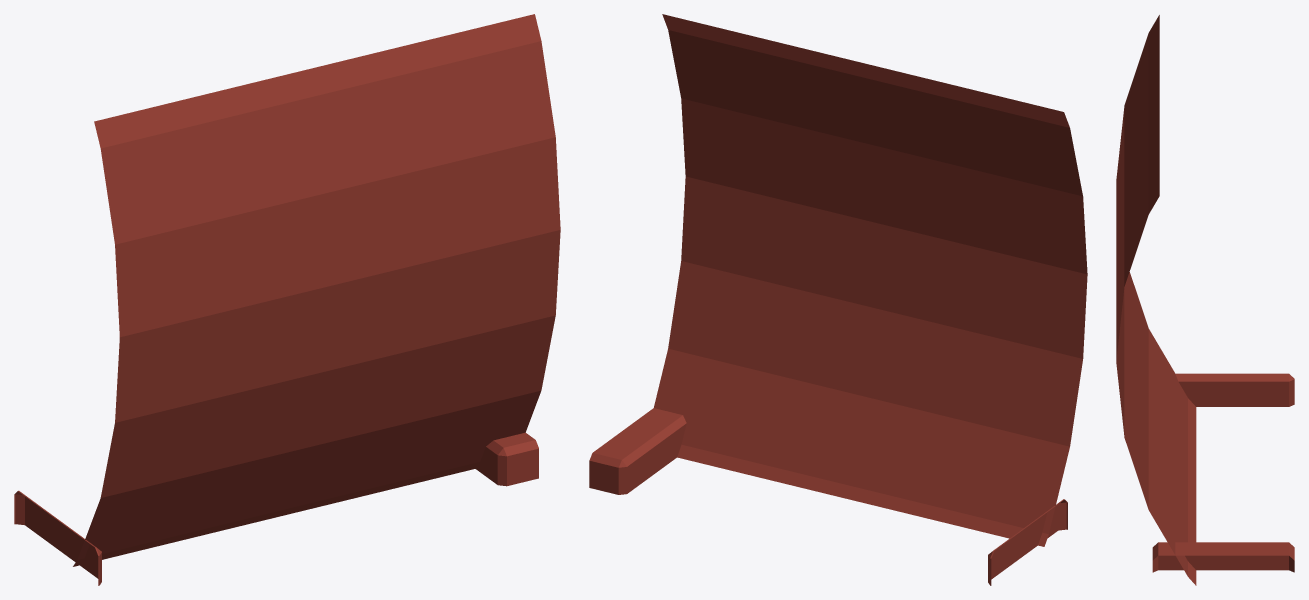
File: cell_47.obj
3 views of the same model, side by side, from view 1: azimuth 30°, elevation 25°; view 2: azimuth 150°, elevation 25°; view 3: azimuth 270°, elevation 25° (orthographic). The views are drawn at different scales.
Size of the model in its own units: 1 by 1 by 0.4145.
